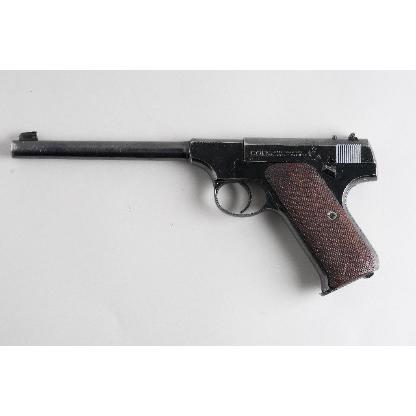gun: (11, 129, 377, 294)
